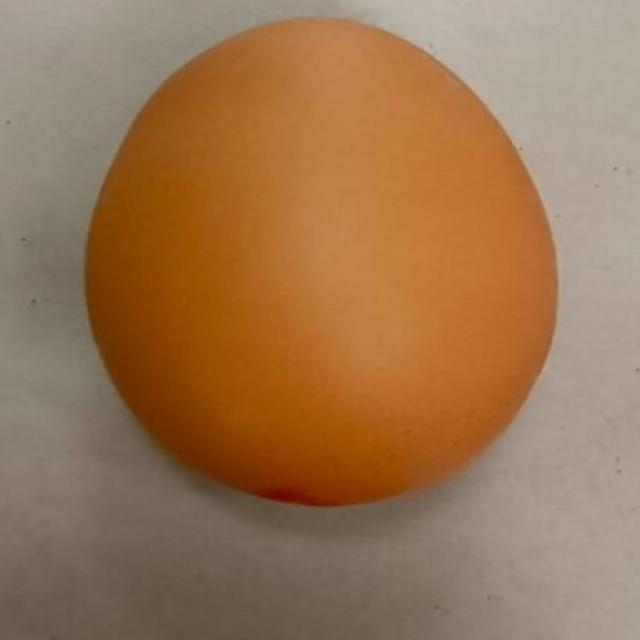fresh: (76, 20, 558, 514)
